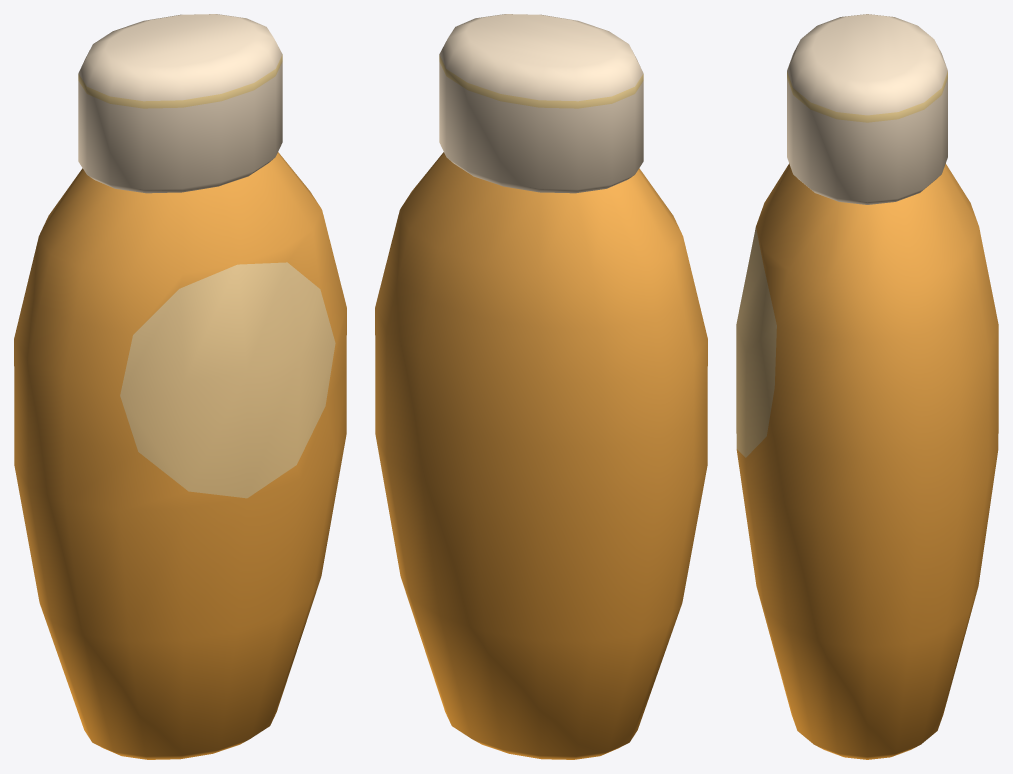
The model's file is Cream_01.glb.
The picture shows the model from 3 angles, left to right: view 1: azimuth 30°, elevation 25°; view 2: azimuth 150°, elevation 25°; view 3: azimuth 270°, elevation 25°; orthographic projection. The views are drawn at different scales.
Visible parts, largest first — view 1: Cream_01; view 2: Cream_01; view 3: Cream_01.
Boxes of the visible parts, x1,y1,x2,y2 form: Cream_01: (14, 14, 346, 759); Cream_01: (375, 14, 707, 759); Cream_01: (736, 14, 998, 759).
Size of the model in its own units: 0.1353 by 0.2926 by 0.103.
Materials: 1 (1 with a texture image).
